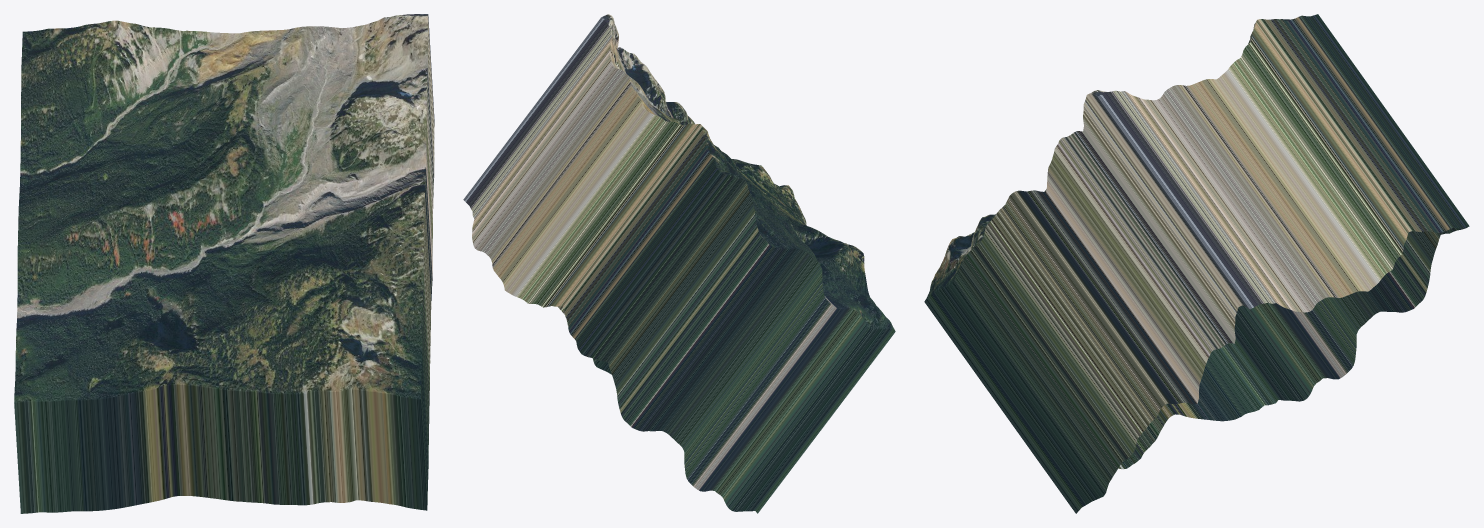
The picture shows the model from 3 angles, left to right: view 1: azimuth 30°, elevation 25°; view 2: azimuth 150°, elevation 25°; view 3: azimuth 270°, elevation 25°; orthographic projection. The views are drawn at different scales.
Bounding box in the file's own units: 5715 × 5563 × 6271.
Materials: 1 (1 with a texture image).
